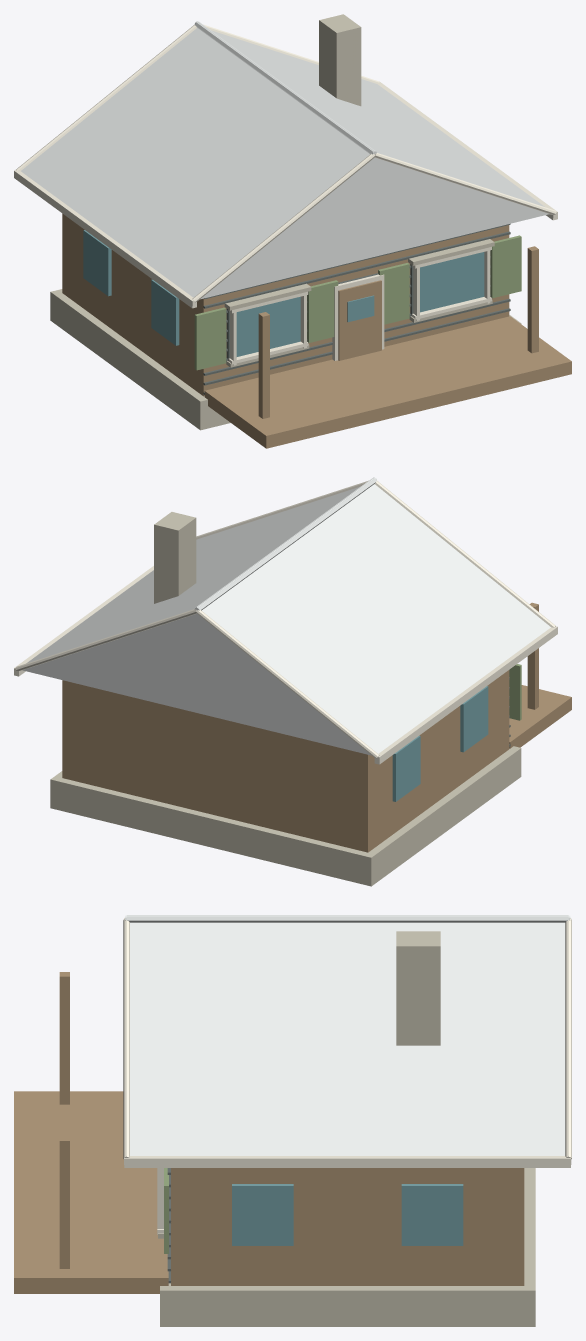
3 renders of one model, top to bottom at view 1: azimuth 30°, elevation 25°; view 2: azimuth 150°, elevation 25°; view 3: azimuth 270°, elevation 25°, orthographic. The views are drawn at different scales.
Bounding box in the file's own units: 11.96 × 8.5 × 12.62.
